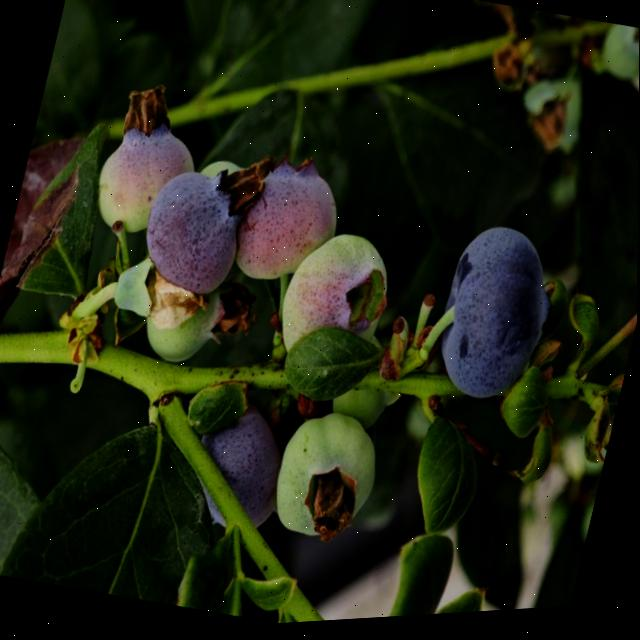Semi-RipeBlueBerry: (264, 400, 388, 556), (227, 148, 354, 299), (275, 231, 403, 360), (138, 166, 255, 305), (89, 102, 197, 247)
UnripeBlueBerry: (434, 217, 563, 409)
